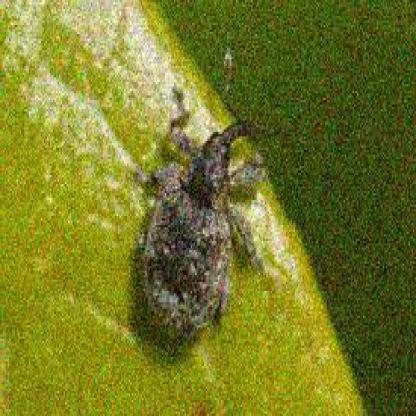ash weevil: (141, 121, 249, 345)
